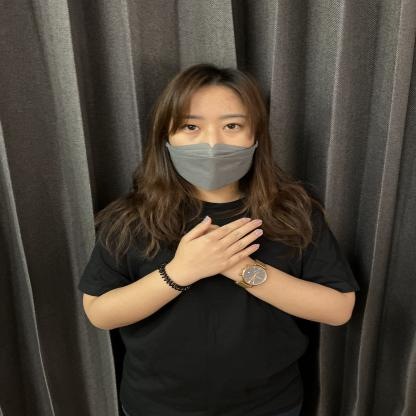Grieve: (149, 178, 300, 296)
